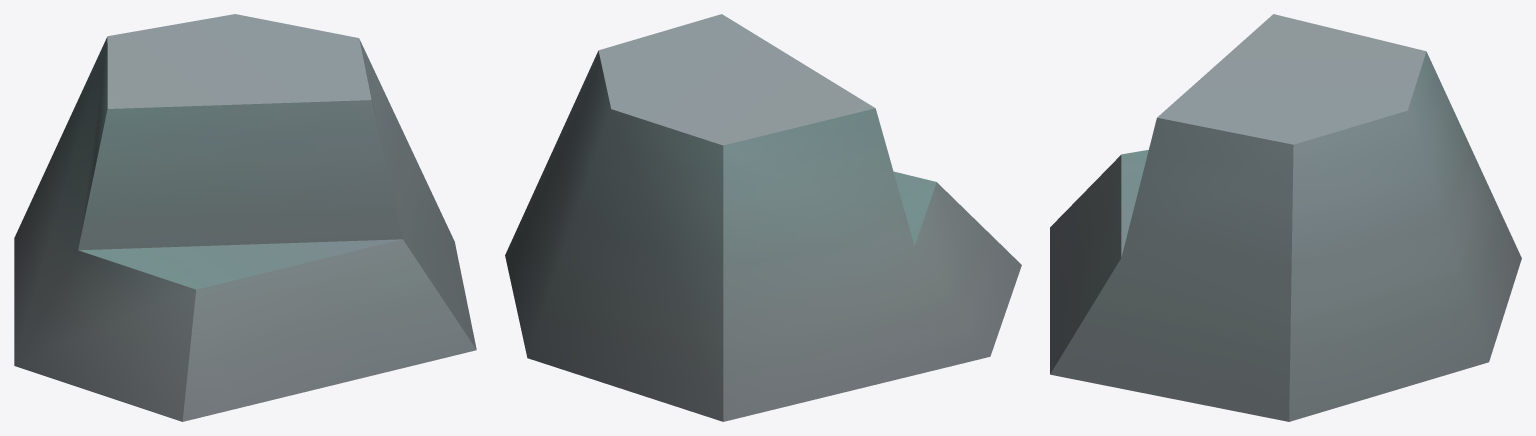
The model's file is rock-single-b.glb.
3 views of the same model, side by side, from view 1: azimuth 30°, elevation 25°; view 2: azimuth 150°, elevation 25°; view 3: azimuth 270°, elevation 25° (orthographic). The views are drawn at different scales.
Parts seen in each view (by area): view 1: rock_single_B; view 2: rock_single_B; view 3: rock_single_B.
Boxes of the visible parts, x1,y1,x2,y2 form: rock_single_B: (14,14,476,421); rock_single_B: (505,14,1021,421); rock_single_B: (1050,14,1521,421).
Bounding box in the file's own units: 0.2866 × 0.1346 × 0.2497.
1 material, 1 textured.
